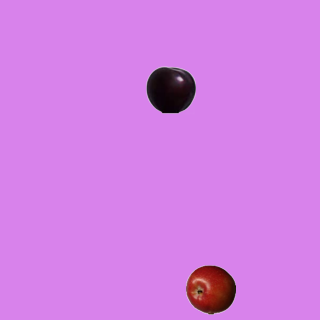Apple Braeburn: (185, 264, 235, 314)
Cherry Wax Black: (145, 64, 195, 114)
